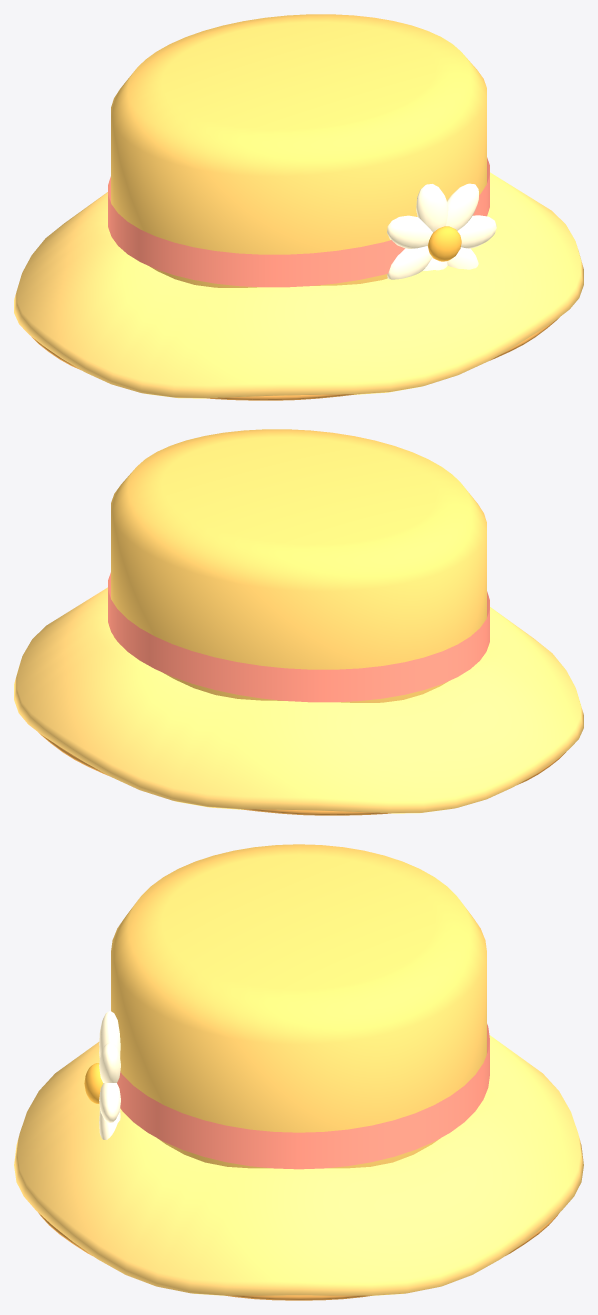
File: daisy_bucket.glb
3 renders of one model, top to bottom at view 1: azimuth 30°, elevation 25°; view 2: azimuth 150°, elevation 25°; view 3: azimuth 270°, elevation 25°, orthographic. The views are drawn at different scales.
Parts seen in each view (by area): view 1: Daisy Bucket Hat; view 2: Daisy Bucket Hat; view 3: Daisy Bucket Hat.
Boxes of the visible parts, x1,y1,x2,y2 form: Daisy Bucket Hat: [14, 14, 583, 400]; Daisy Bucket Hat: [14, 429, 583, 815]; Daisy Bucket Hat: [14, 844, 583, 1300].
Bounding box in the file's own units: 1 × 0.4142 × 0.86.
